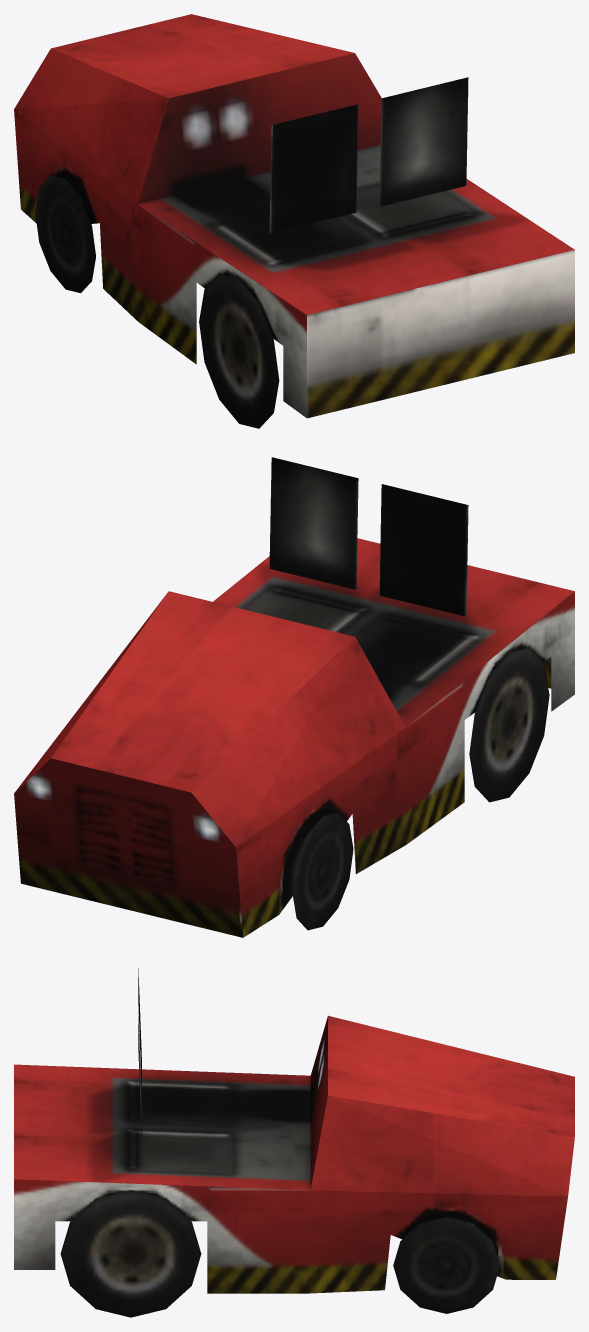
File: ramp_carroAVA_LOD2.gltf
3 views of the same model, one above another, from view 1: azimuth 30°, elevation 25°; view 2: azimuth 150°, elevation 25°; view 3: azimuth 270°, elevation 25° (orthographic). The views are drawn at different scales.
Visible parts, largest first — view 1: node1; view 2: node1; view 3: node1.
Boxes of the visible parts, box(x1,y1,x2,y2) form: node1: box(14, 14, 574, 428); node1: box(14, 457, 574, 937); node1: box(14, 968, 574, 1317).
Size of the model in its own units: 1.41 by 1.43 by 2.9.
